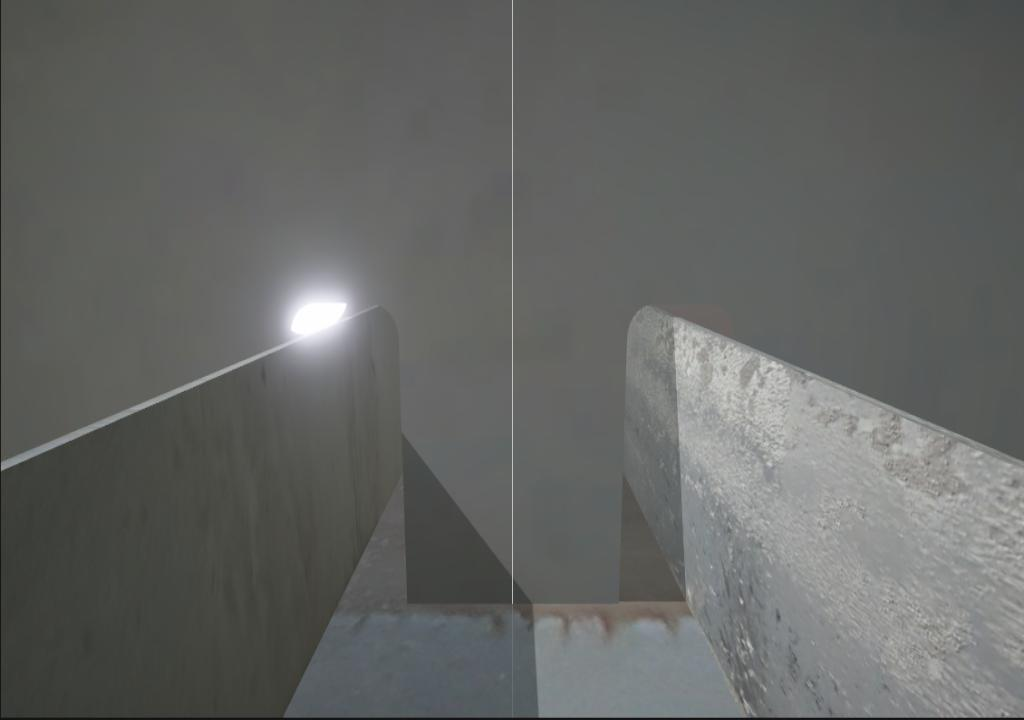fillet_yong_jeop_jang: (396, 589, 635, 617)
